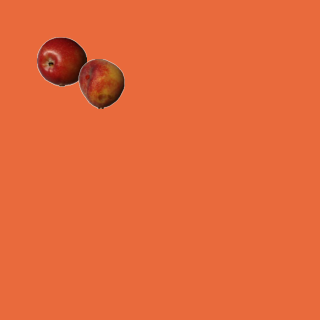Apple Braeburn: (36, 36, 86, 86)
Peach: (76, 58, 126, 108)
